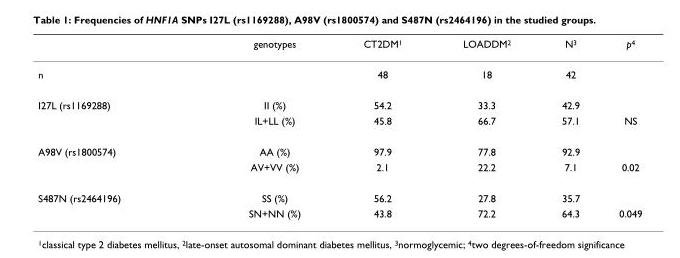table: (37, 37, 641, 218)
table column: (37, 37, 184, 218), (184, 37, 331, 218), (431, 37, 535, 218), (331, 37, 431, 218), (535, 37, 598, 218), (598, 37, 641, 218)
table column header: (37, 37, 641, 58)
table row: (37, 58, 641, 89), (37, 158, 641, 182), (37, 89, 641, 112), (37, 112, 641, 135), (37, 135, 641, 158), (37, 182, 641, 205), (37, 37, 641, 58), (37, 205, 641, 218)
table spanning cell: (37, 135, 184, 182), (37, 89, 184, 135), (37, 182, 184, 218)
